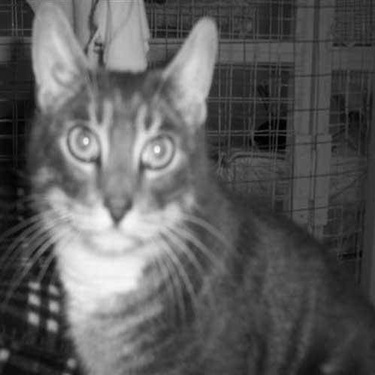cat: (26, 1, 370, 369)
